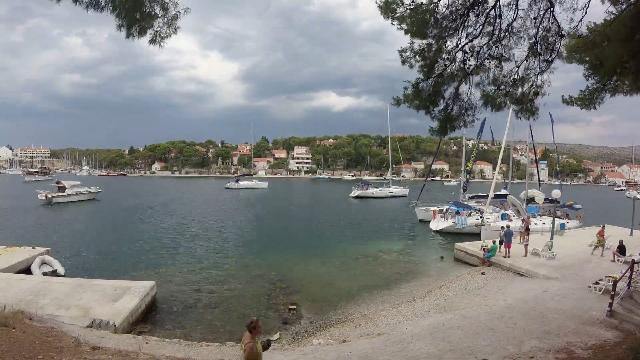Freighter: (20, 162, 61, 184)
Sailboat: (348, 175, 414, 203), (220, 166, 274, 194)
ferry: (30, 176, 108, 207)
